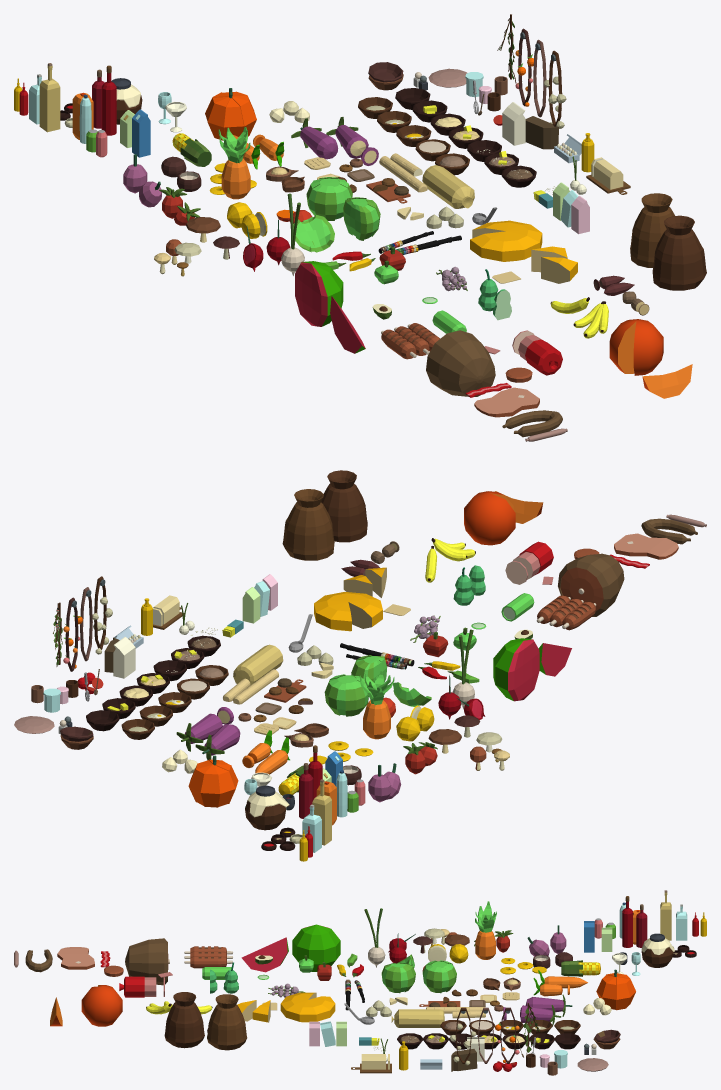
The model's file is nowe textury 1.fbx.
The picture shows the model from 3 angles, top to bottom: view 1: azimuth 30°, elevation 25°; view 2: azimuth 150°, elevation 25°; view 3: azimuth 270°, elevation 25°; orthographic projection. The views are drawn at different scales.
Parts seen in each view (by area): view 1: Sphere087, Cone001, Sphere176, Sphere144, Sphere077, Cone002, Sphere185, Sphere108, Box219, Box223, Sphere136, Sphere178 (+15 smaller); view 2: Cone002, Sphere087, Cone001, Sphere144, Sphere176, Sphere077, Sphere185, Sphere108, Sphere109, Box223, Box219, Torus008 (+7 smaller); view 3: Cone001, Cone002, Sphere144, Sphere087, Sphere176, Sphere077, Sphere185, Box219, Sphere108, Sphere109, Sphere136, Sphere145 (+19 smaller).
Part boxes in pixels (x1,y1,x2,y2): Sphere087: (426, 330, 495, 396); Cone001: (652, 215, 706, 290); Sphere176: (609, 319, 663, 375); Sphere144: (295, 261, 343, 326); Sphere077: (470, 220, 542, 261); Cone002: (630, 193, 674, 267); Sphere185: (205, 91, 256, 140); Sphere108: (306, 177, 352, 220); Box219: (422, 165, 474, 208); Box223: (474, 387, 539, 417); Sphere136: (343, 197, 380, 240); Sphere178: (293, 215, 334, 252); Cone002: (282, 489, 334, 560); Sphere087: (558, 553, 624, 616); Cone001: (321, 470, 367, 542); Sphere144: (493, 638, 539, 701); Sphere176: (464, 491, 515, 545); Sphere077: (314, 592, 382, 631); Sphere185: (188, 759, 238, 807); Sphere108: (324, 674, 368, 716); Sphere109: (245, 785, 289, 830); Box223: (614, 533, 678, 559); Box219: (233, 644, 283, 685); Torus008: (641, 518, 697, 544); Cone001: (164, 992, 204, 1048); Cone002: (207, 994, 247, 1050); Sphere144: (292, 924, 340, 971); Sphere087: (125, 938, 169, 985); Sphere176: (81, 985, 122, 1026); Sphere077: (280, 992, 335, 1022); Sphere185: (596, 973, 635, 1010); Box219: (391, 1009, 444, 1027); Sphere108: (422, 960, 456, 993); Sphere109: (641, 933, 674, 967); Sphere136: (381, 962, 415, 993); Sphere145: (241, 937, 288, 972).
Size of the model in its own units: 980 by 270 by 1868.
